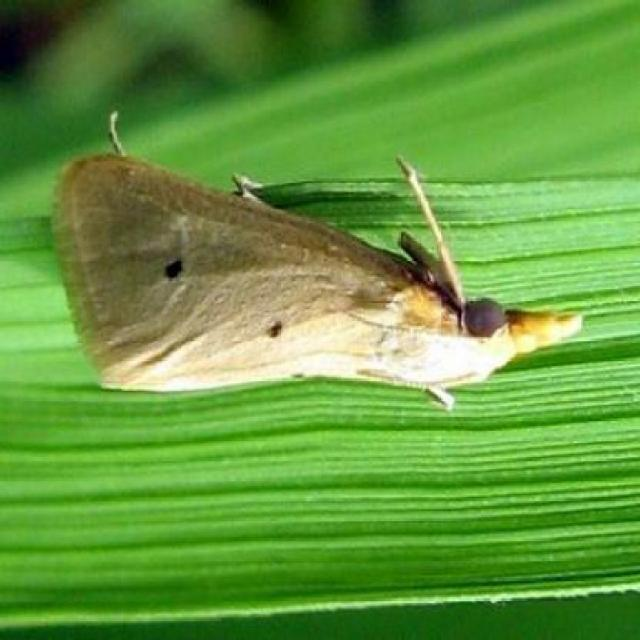stem-borer: (50, 109, 588, 417)
